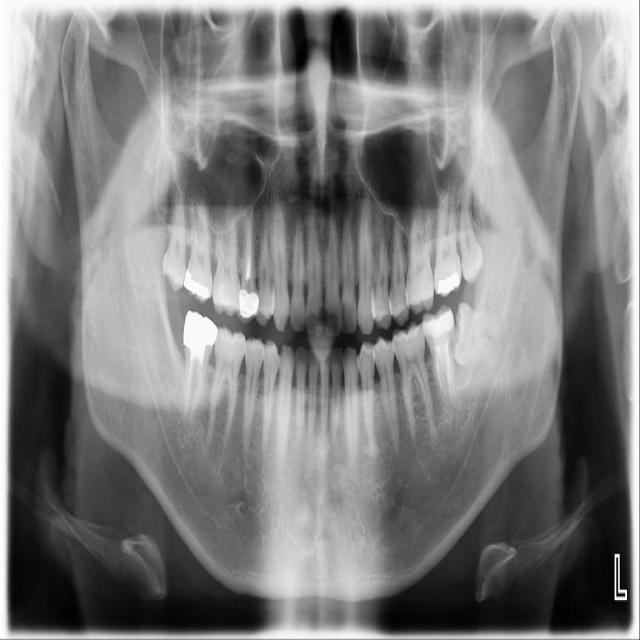3M ESPE Implant: (160, 187, 191, 292)
52: (175, 308, 222, 361), (416, 301, 460, 347), (181, 256, 216, 306), (434, 250, 462, 297), (212, 272, 241, 317), (235, 283, 260, 325)
73: (181, 350, 209, 429), (428, 334, 457, 406), (241, 206, 256, 285), (596, 572, 603, 582)
BioHorizons Implant: (434, 185, 462, 297)
BioLife Implant: (454, 186, 485, 285)
Biomet 3i Implant: (447, 300, 506, 370)
Blue Sky Bio Implant: (419, 302, 469, 407)
Caries: (180, 195, 213, 305)
Implant: (158, 309, 222, 430)
